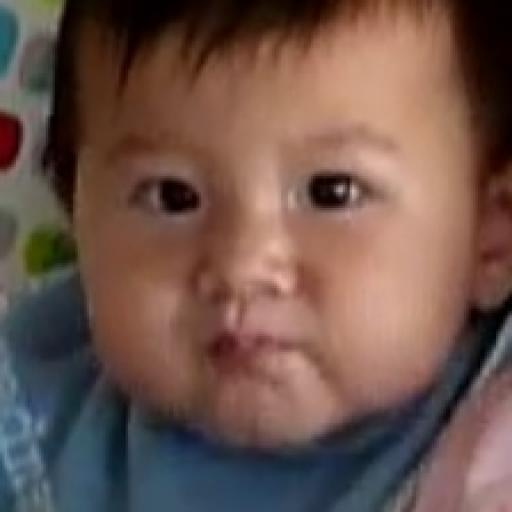Autism: (73, 16, 497, 512)
